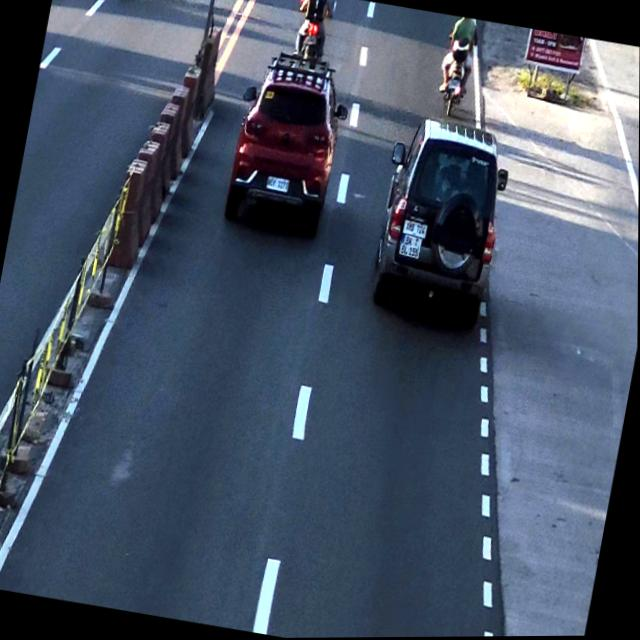Car: (371, 115, 510, 314), (218, 46, 353, 241)
License-Plate: (396, 210, 429, 263), (263, 173, 291, 198)
Motorcycle: (430, 15, 486, 115), (292, 0, 338, 60)
